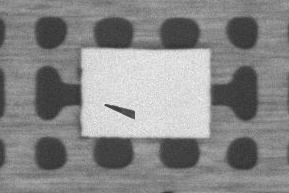DIE_INK: (153, 67, 202, 81)
